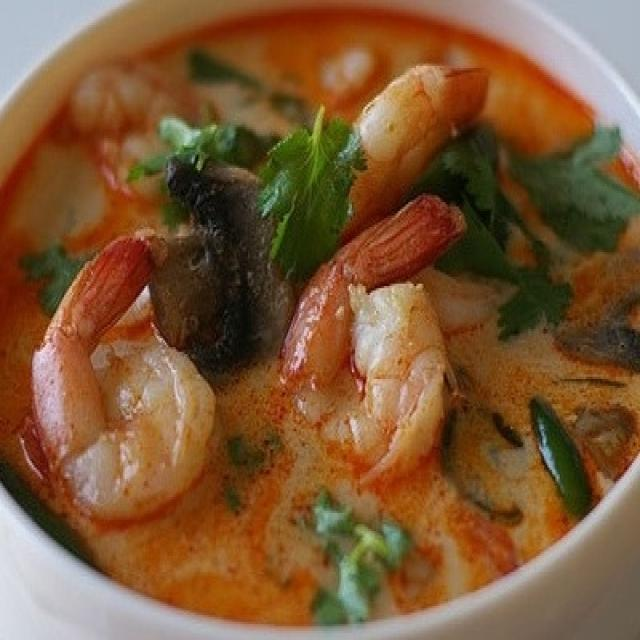汤锅炖物: (3, 9, 637, 629)
